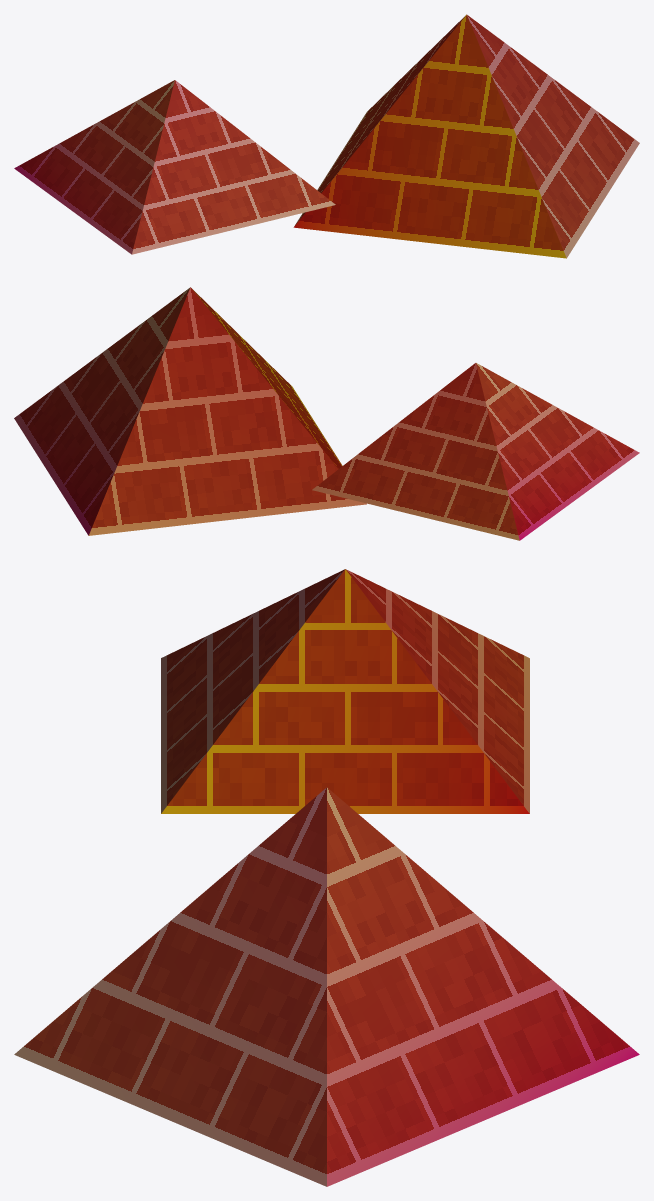
3 renders of one model, top to bottom at view 1: azimuth 30°, elevation 25°; view 2: azimuth 150°, elevation 25°; view 3: azimuth 270°, elevation 25°, orthographic. The views are drawn at different scales.
Parts seen in each view (by area): view 1: pyramid, inner; view 2: pyramid, inner; view 3: pyramid, inner.
Part boxes in pixels (left/top/right/bottom): pyramid: left=293, top=14, right=639, bottom=258; inner: left=14, top=80, right=335, bottom=254; pyramid: left=14, top=287, right=366, bottom=535; inner: left=312, top=363, right=639, bottom=540; pyramid: left=14, top=787, right=639, bottom=1186; inner: left=161, top=569, right=529, bottom=813.
Size of the model in its own units: 137 by 40 by 84.85.
2 materials, 1 textured.
